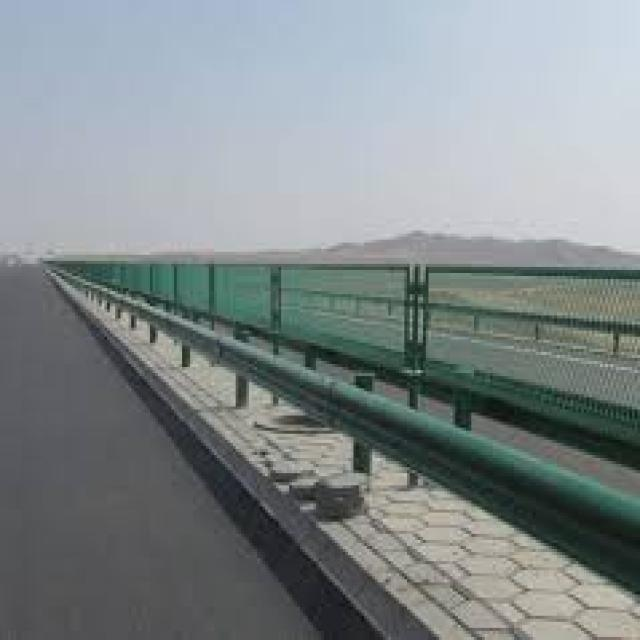Guard rail: (60, 271, 640, 621)
